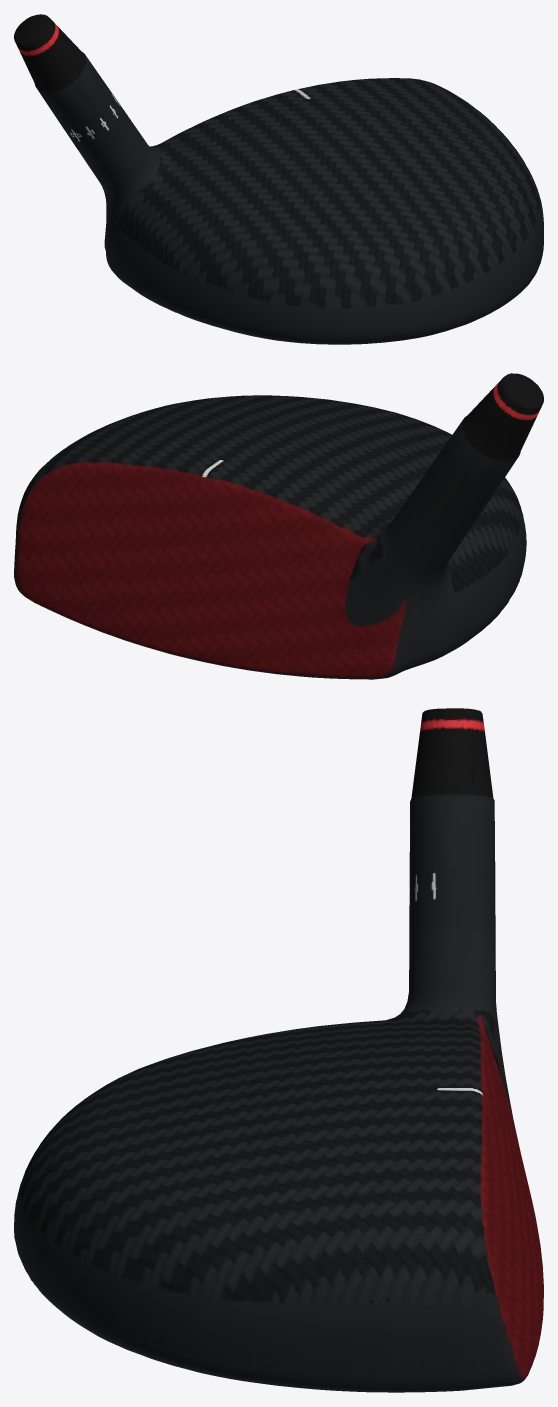
3 views of the same model, one above another, from view 1: azimuth 30°, elevation 25°; view 2: azimuth 150°, elevation 25°; view 3: azimuth 270°, elevation 25° (orthographic). The views are drawn at different scales.
Parts seen in each view (by area): view 1: head; view 2: head; view 3: head.
Part boxes in pixels (bbox=[...]): head: bbox=[14, 14, 543, 344]; head: bbox=[14, 373, 543, 679]; head: bbox=[14, 708, 543, 1392].
Bounding box in the file's own units: 0.122 × 0.0736 × 0.0853.
Materials: 1 (1 with a texture image).
